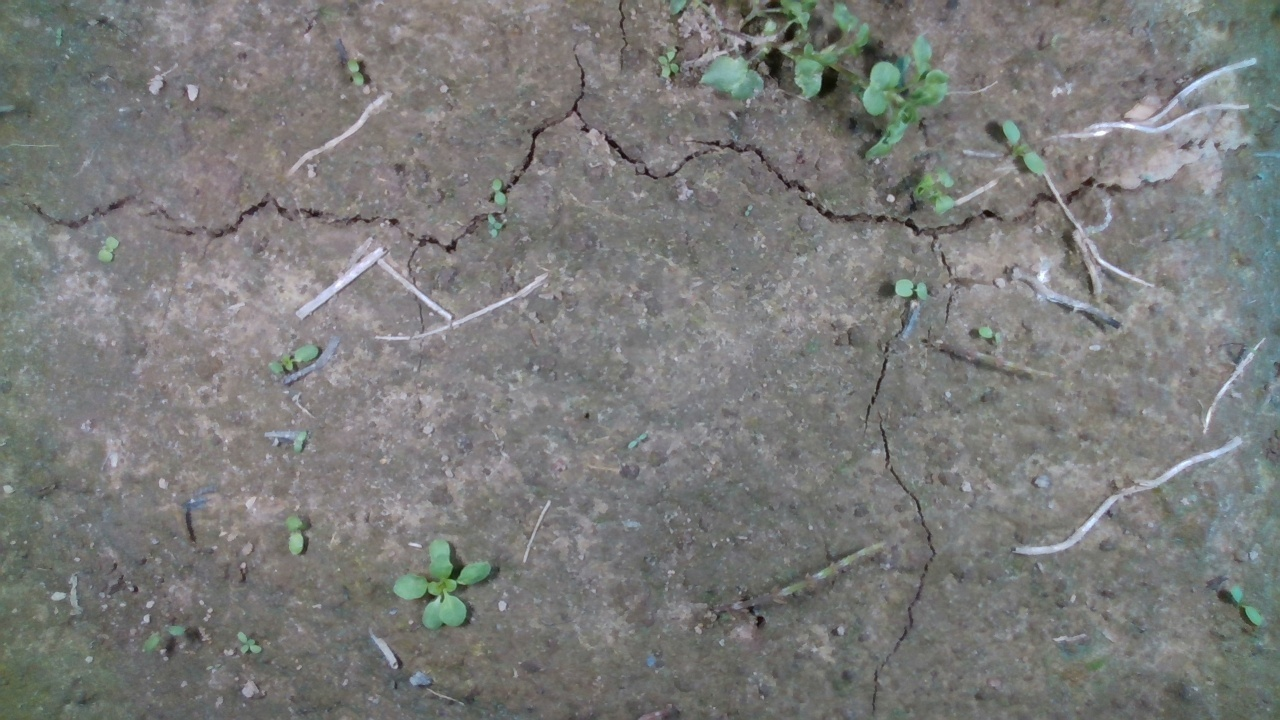weed: (390, 535, 493, 632), (1002, 116, 1051, 177), (266, 344, 320, 375), (140, 622, 186, 654), (284, 511, 305, 559), (893, 278, 929, 304), (657, 47, 681, 79), (977, 323, 1005, 348), (96, 235, 120, 262), (345, 58, 365, 89), (236, 631, 262, 654), (490, 178, 508, 206)
